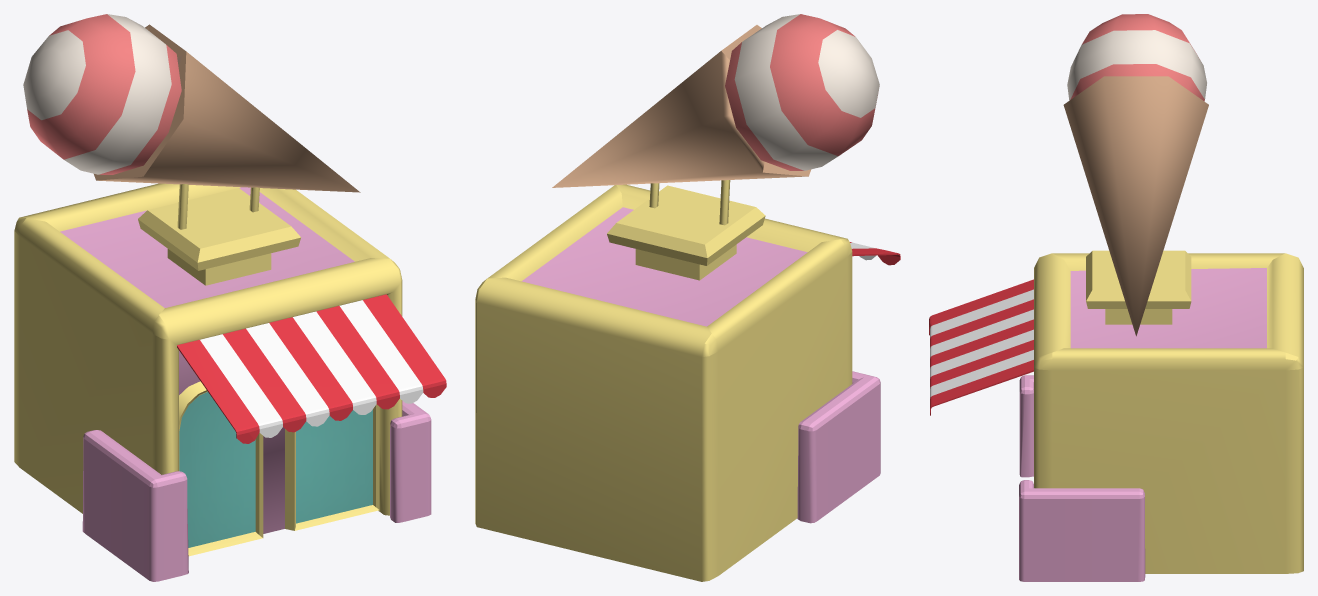
Rendered from SM_Ice_Cream3.fbx.
3 renders of one model, left to right at view 1: azimuth 30°, elevation 25°; view 2: azimuth 150°, elevation 25°; view 3: azimuth 270°, elevation 25°, orthographic. The views are drawn at different scales.
Visible parts, largest first — view 1: SM_Ice_Cream3; view 2: SM_Ice_Cream3; view 3: SM_Ice_Cream3.
Boxes of the visible parts, x1,y1,x2,y2 form: SM_Ice_Cream3: (14, 14, 446, 581); SM_Ice_Cream3: (475, 14, 900, 581); SM_Ice_Cream3: (929, 14, 1303, 581).
Size of the model in its own units: 453 by 660 by 502.
